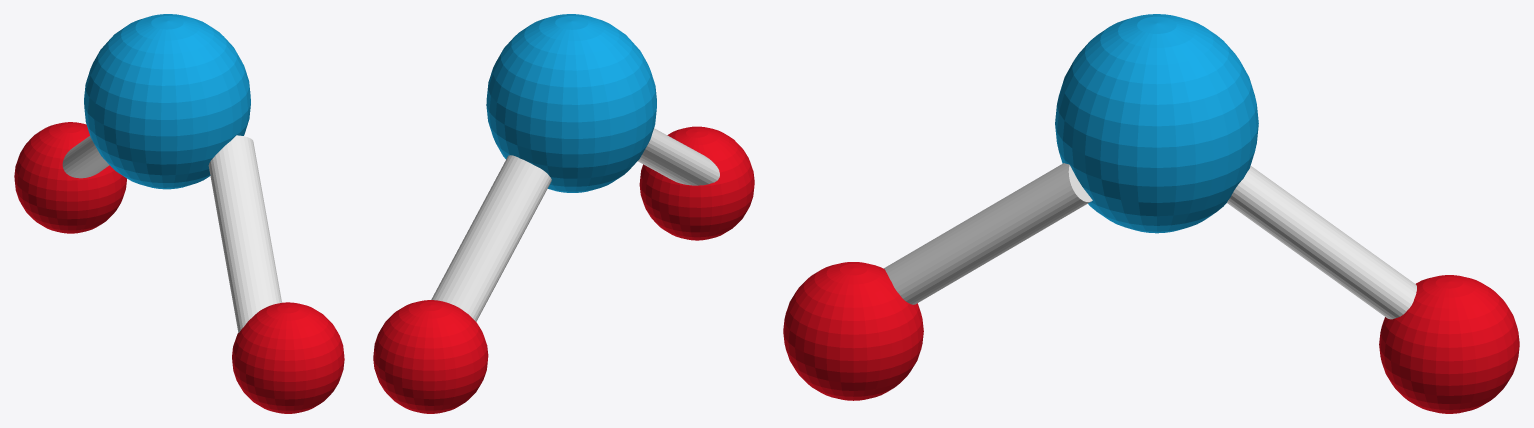
The model's file is h2ofinal.gltf.
The picture shows the model from 3 angles, left to right: view 1: azimuth 30°, elevation 25°; view 2: azimuth 150°, elevation 25°; view 3: azimuth 270°, elevation 25°; orthographic projection. The views are drawn at different scales.
Visible parts, largest first — view 1: Sphere, Sphere.001, Cylinder, Sphere.002, Cylinder.001; view 2: Sphere, Sphere.002, Cylinder.001, Sphere.001, Cylinder; view 3: Sphere, Sphere.001, Sphere.002, Cylinder, Cylinder.001.
Part boxes in pixels (x1,y1,x2,y2): Sphere: [84, 14, 250, 189]; Sphere.001: [232, 302, 344, 413]; Cylinder: [208, 135, 281, 332]; Sphere.002: [14, 122, 126, 233]; Cylinder.001: [62, 136, 109, 178]; Sphere: [486, 14, 656, 192]; Sphere.002: [373, 300, 488, 413]; Cylinder.001: [431, 155, 551, 321]; Sphere.001: [639, 126, 754, 240]; Cylinder: [638, 128, 719, 185]; Sphere: [1055, 14, 1258, 233]; Sphere.001: [783, 262, 923, 400]; Sphere.002: [1379, 275, 1519, 413]; Cylinder: [884, 163, 1092, 304]; Cylinder.001: [1227, 166, 1416, 319].
Size of the model in its own units: 2.33 by 4.54 by 8.15.
